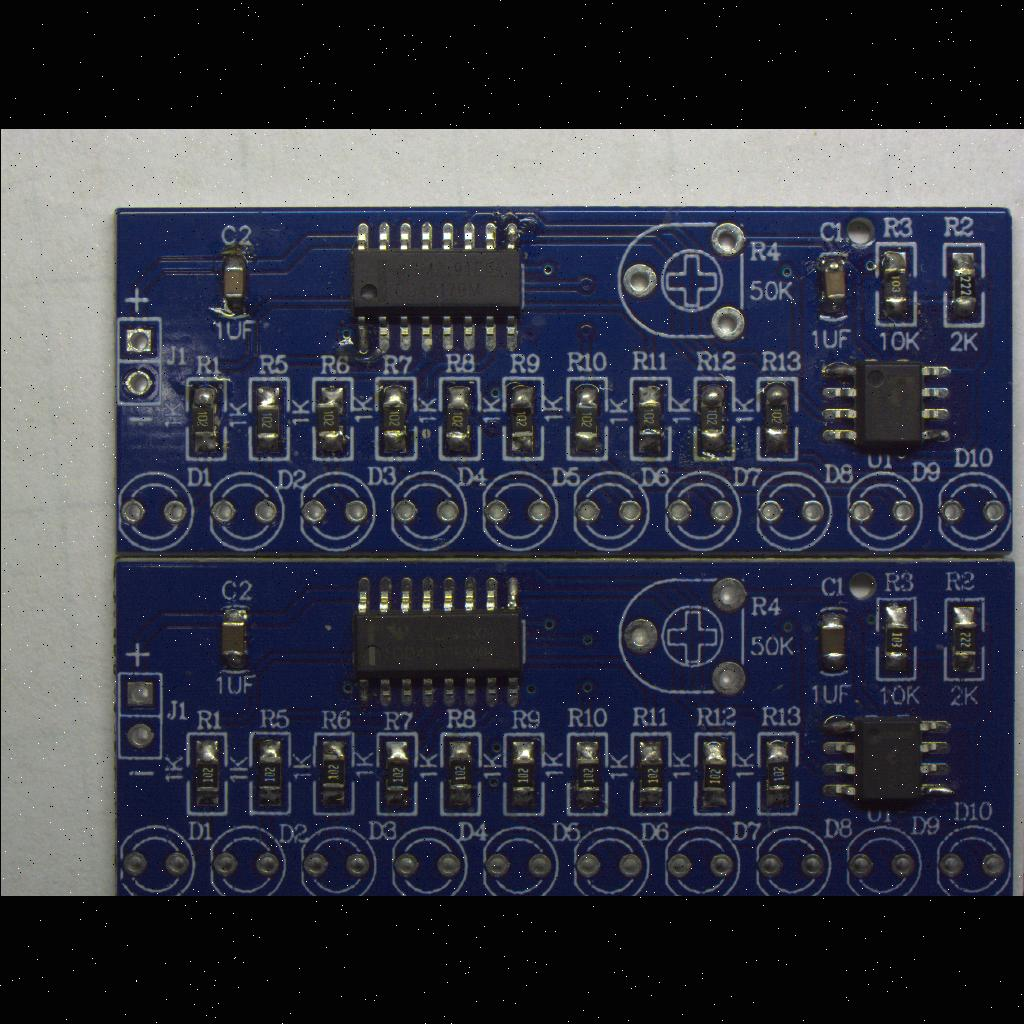OK: (344, 565, 530, 721), (344, 213, 526, 361), (814, 708, 960, 814), (811, 355, 959, 459), (560, 370, 612, 464), (368, 372, 420, 464), (870, 236, 920, 330), (688, 370, 736, 466), (371, 729, 421, 821), (870, 593, 920, 685), (938, 239, 988, 331), (306, 372, 356, 464), (752, 372, 800, 466), (624, 374, 674, 464), (244, 728, 294, 818), (936, 594, 986, 684), (244, 374, 294, 464), (498, 372, 546, 464), (181, 374, 229, 466), (434, 728, 482, 820), (434, 374, 482, 466), (754, 728, 802, 818), (626, 729, 674, 819), (182, 728, 230, 818), (498, 729, 546, 819), (563, 729, 611, 819), (310, 726, 356, 818), (690, 730, 738, 818), (812, 599, 852, 681), (813, 243, 853, 325), (214, 244, 254, 324), (214, 600, 252, 676)
